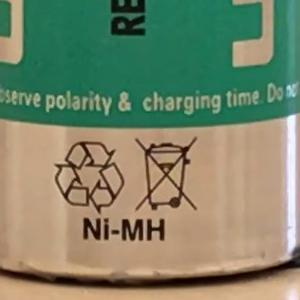NI-MH: (73, 208, 175, 251)
